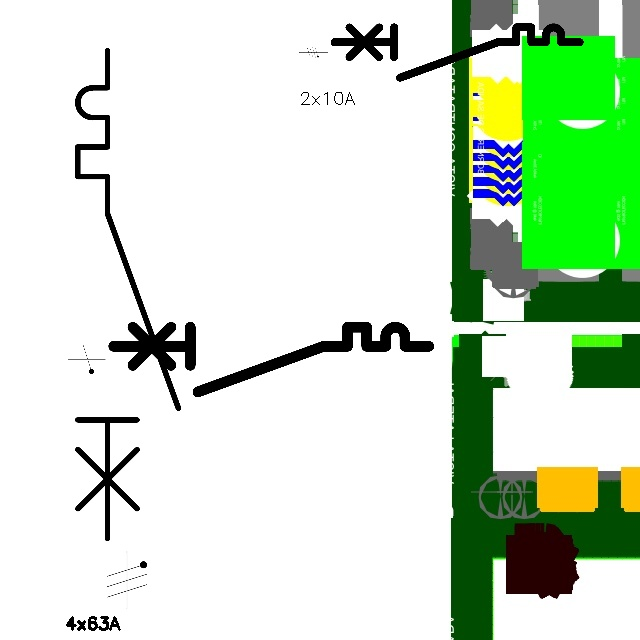interruptor_termomagnetico: (65, 38, 190, 551), (105, 319, 436, 400), (328, 21, 585, 84)
